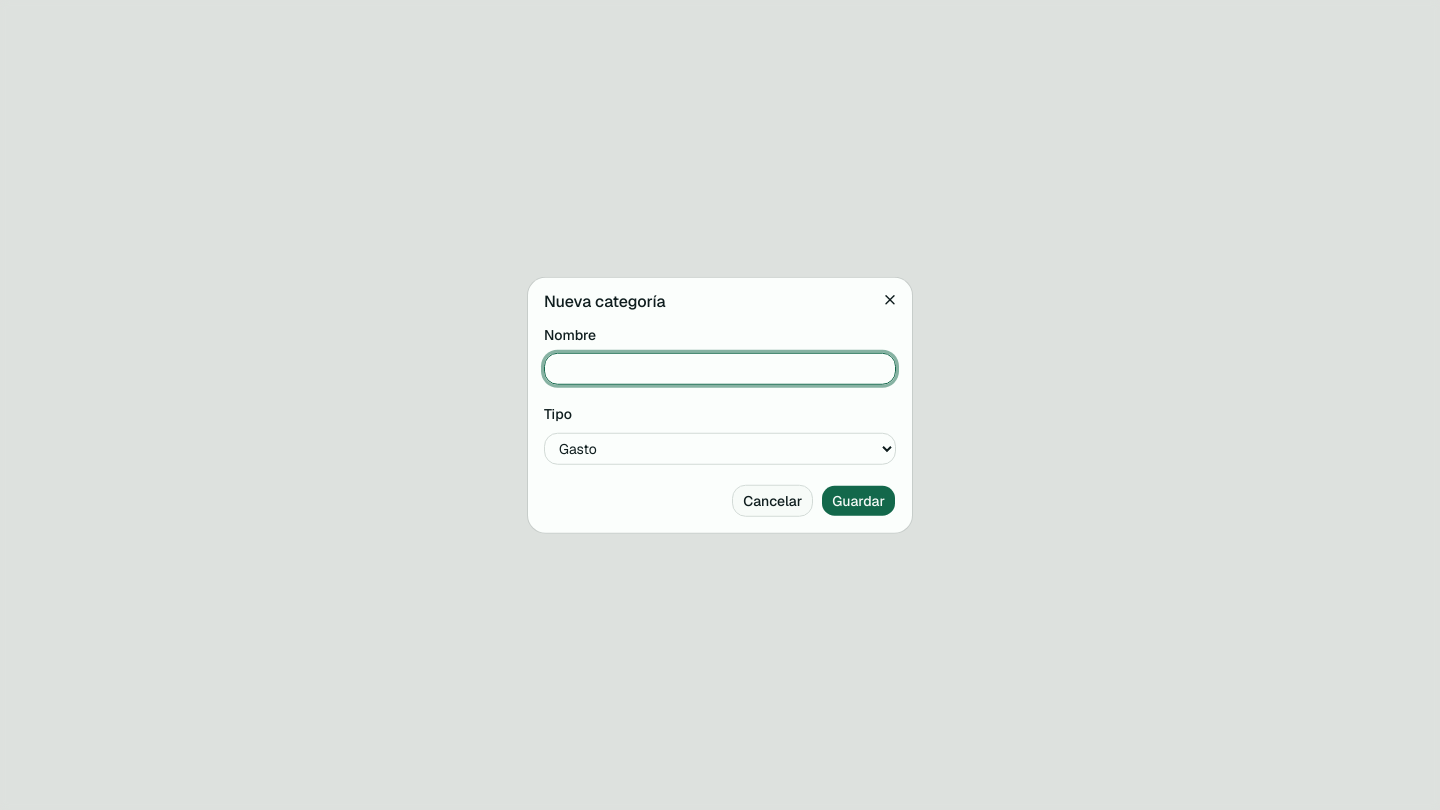
Test: CategoryForm › shows a root error and does not close when the mutation fails
Type "Transporte" into the field labelled "Nombre" at [720, 369], box x1=544 y1=353 x2=896 y2=385
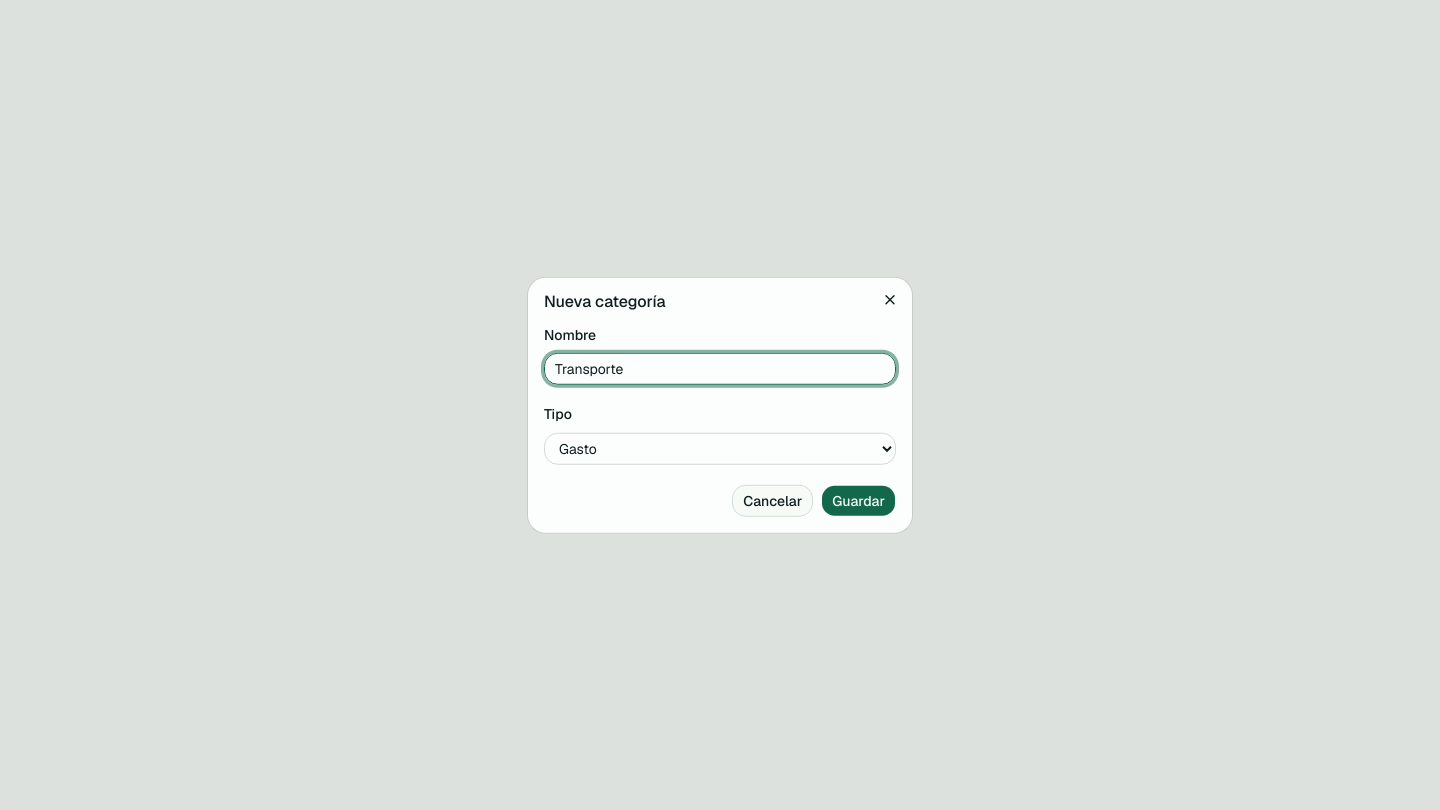
Click the button "Guardar" at [859, 500], box x1=821 y1=484 x2=896 y2=516
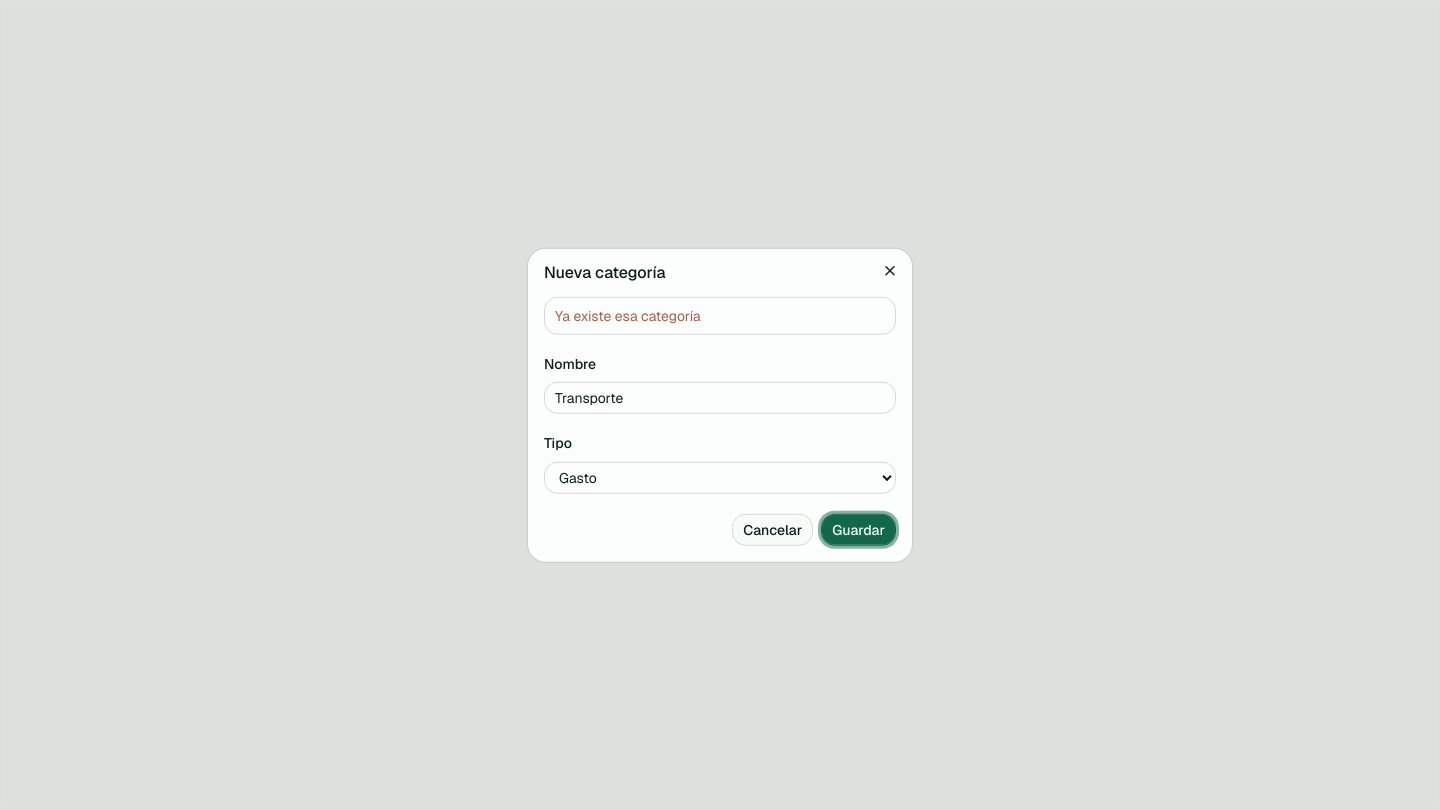
Now the text "Ya existe esa categoría" is shown, box x1=555 y1=307 x2=701 y2=325
